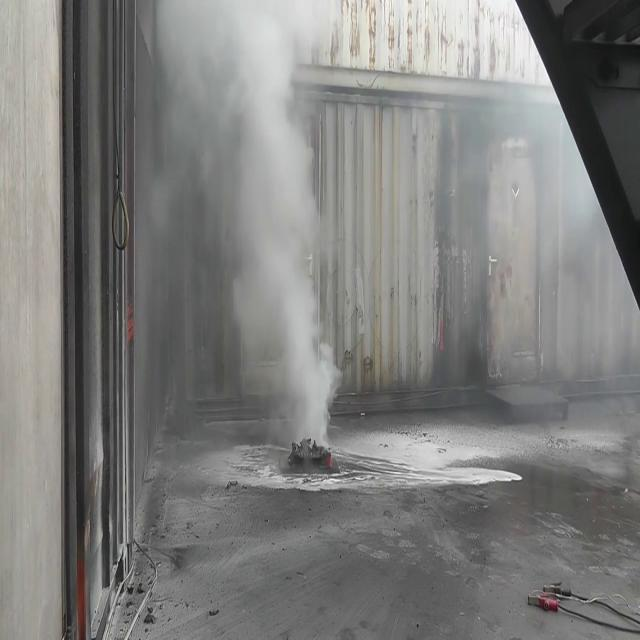Smoke: (134, 1, 340, 445), (463, 24, 630, 426)
